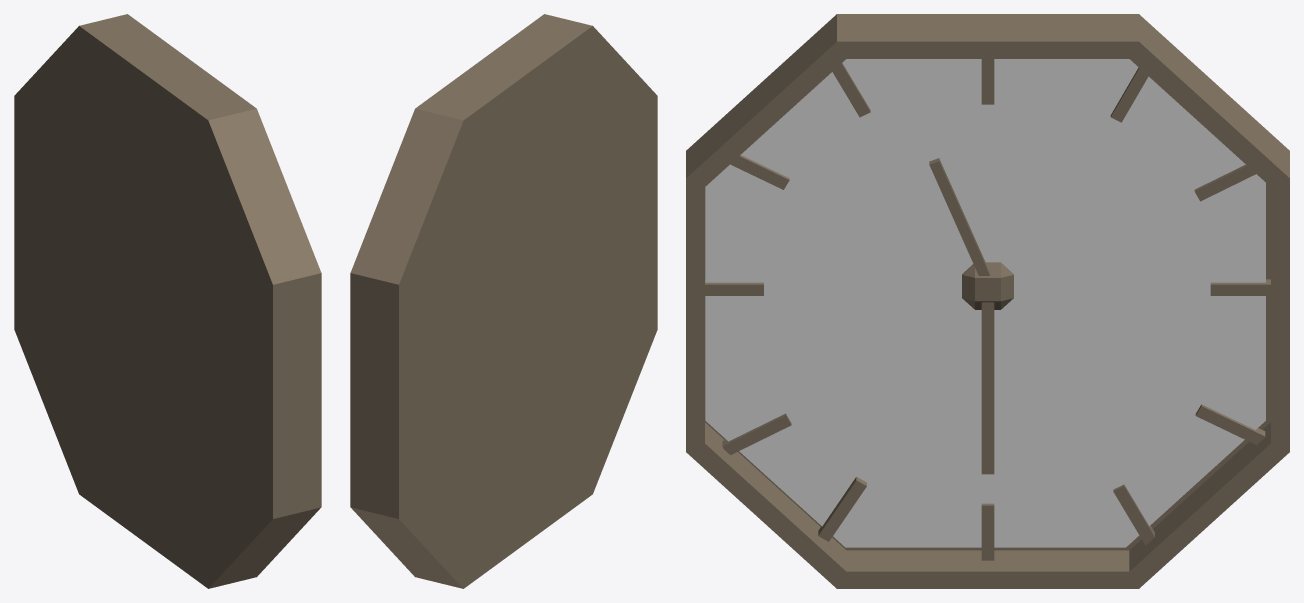
The model's file is klok.fbx.
3 renders of one model, left to right at view 1: azimuth 30°, elevation 25°; view 2: azimuth 150°, elevation 25°; view 3: azimuth 270°, elevation 25°, orthographic. The views are drawn at different scales.
Parts seen in each view (by area): view 1: polySurface1; view 2: polySurface1; view 3: pCube2, polySurface1, pasted__pasted__pCube3 (×2), pasted__pasted__pasted__pasted__pasted__pCube3 (×3), pasted__pasted__pasted__pCube3 (×2), pasted__pasted__pasted__pasted__pasted__pasted__pCube3 (×2), pCube1, pasted__pasted__pasted__pasted__pCube3 (×2), pasted__pasted__pasted__pasted__pasted__pasted__pasted__pCub, pasted__pasted__pasted__pasted__pasted__pasted__pasted__past.
Part boxes in pixels (x1,y1,x2,y2): polySurface1: (14,14,321,588); polySurface1: (350,14,657,588); pCube2: (705,59,1265,547); polySurface1: (686,14,1289,588); pasted__pasted__pCube3 (×2): (981,302,994,560); pasted__pasted__pasted__pasted__pasted__pCube3 (×3): (730,155,1255,541); pasted__pasted__pasted__pCube3 (×2): (929,158,1270,295); pasted__pasted__pasted__pasted__pasted__pasted__pCube3 (×2): (722,404,1265,455); pCube1: (962,262,1013,309); pasted__pasted__pasted__pasted__pCube3 (×2): (705,67,1148,295); pasted__pasted__pasted__pasted__pasted__pasted__pasted__pCub: (1113,484,1154,545); pasted__pasted__pasted__pasted__pasted__pasted__pasted__past: (832,63,870,117).
Size of the model in its own units: 0.5489 by 5.06 by 5.06.
